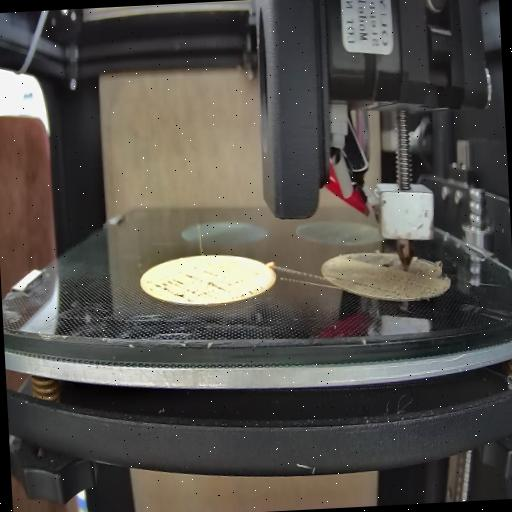under_extrusion: (147, 269, 264, 304), (326, 253, 400, 293), (424, 250, 448, 288)
